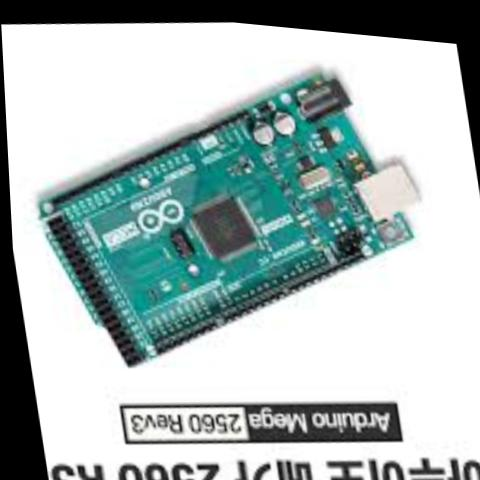Arduino-Mega: (1, 20, 475, 410)
